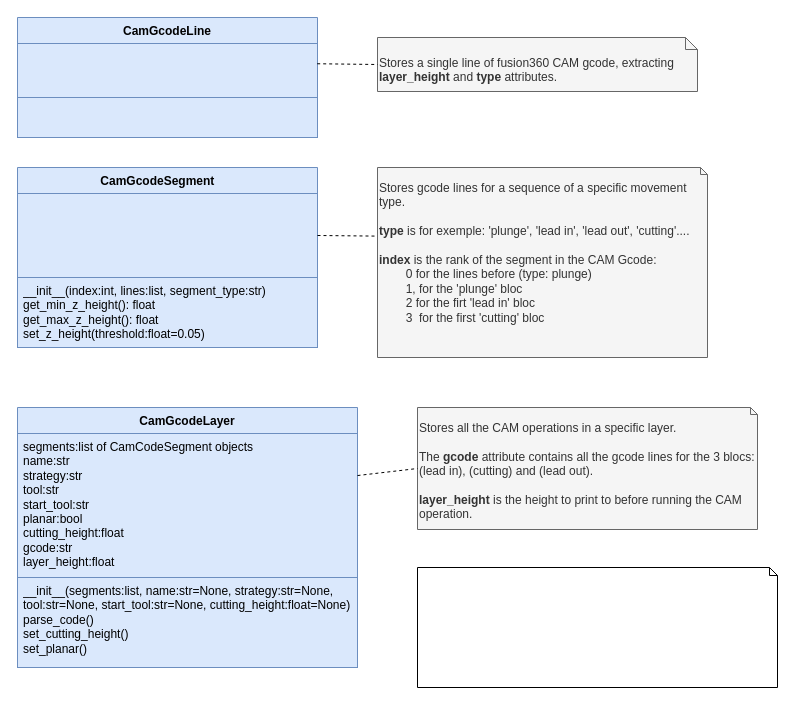
Some shapes in this 795 by 705 pixel diagram are drawn without their labels. Each missing label, with the centre of its shape:
__init__(gcode:str, offset: tuple, line_type:str) get_layer_height(gcode): float: the point at 167,117
exemple:: the point at 597,627
gcode: str layer_height: float type: str: the point at 167,70
type: str lines: list index: int planar: bool height: float: the point at 167,235
